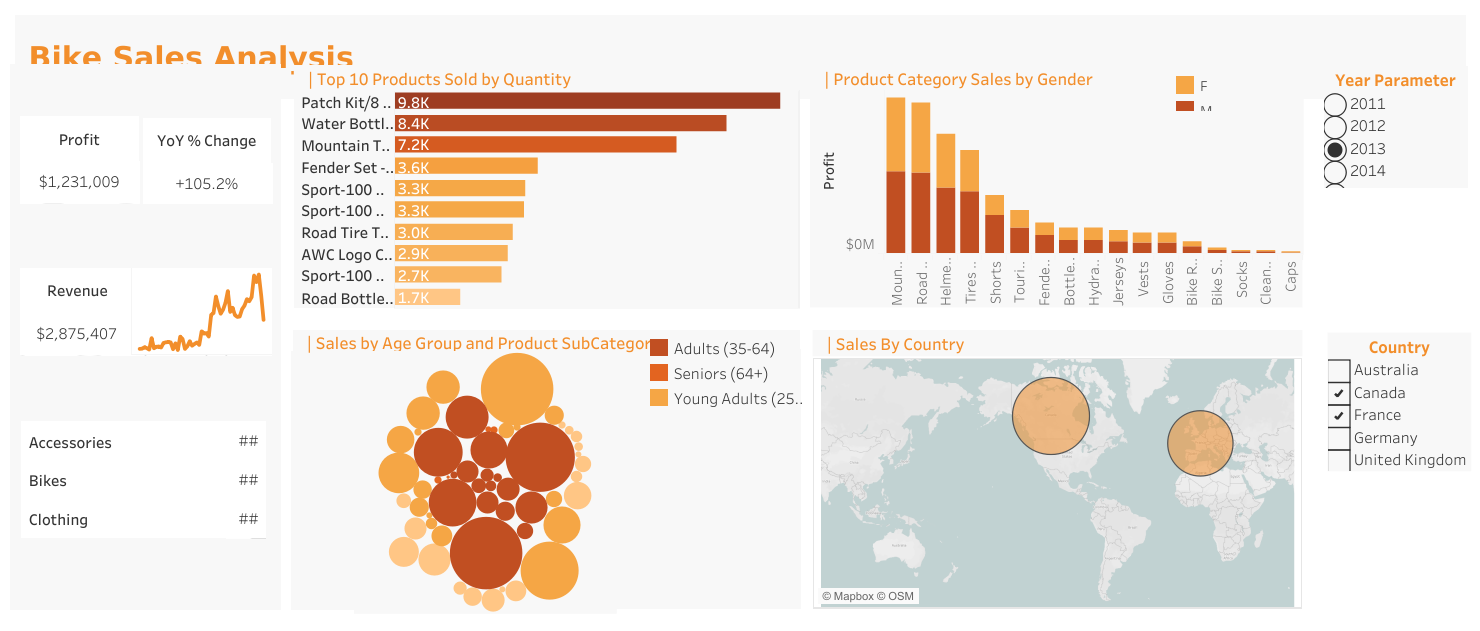

This screenshot's page, from the dashboard's own definition file:
{"tool":"tableau","page":{"name":"Sales Dashboard","canvas":[1000,1000],"units":"permille","ordinal":0},"visuals":[{"type":"title","box":[4.9,9.3,990.2,87.1]},{"type":"text","box":[197.9,103.4,341.2,41.8]},{"type":"text","box":[547.1,103.4,332.1,39.5]},{"type":"parameter","param":"[Parameters].[Parameter 1]","box":[893.8,104.5,97.2,192.8]},{"type":"legend","title":"SubCategory Bar Chart","param":"[federated.0gcj31602u4f0r16oxvj41pxij6p].[none:Customer_Gender:nk]","box":[791.1,113.8,85,61.6]},{"type":"worksheet","title":"Top 10 Products","mark":"Bar","rows":["Product"],"box":[198.5,141.7,341.2,347.3]},{"type":"worksheet","title":"SubCategory Bar Chart","mark":"Automatic","rows":["Profit"],"cols":["Sub_Category"],"box":[547.1,142.9,332.1,344.9]},{"type":"worksheet","title":"Profit Card","mark":"Automatic","cols":["Calculation_732960844400586754"],"box":[13.4,184.7,80.2,134.7]},{"type":"worksheet","title":"YoY % Change","mark":"Automatic","cols":["Calculation_732960844404006920"],"box":[95.9,185.8,87.4,133.6]},{"type":"worksheet","title":"Revenue Card","mark":"Automatic","cols":["Calculation_732960844407107593"],"box":[13.4,422.8,78.9,138.2]},{"type":"worksheet","title":"Revenue Line Chart","mark":"Automatic","rows":["Revenue"],"cols":["Date"],"box":[88.7,422.8,94.1,137.1]},{"type":"text","box":[197.3,521.5,343.1,36]},{"type":"text","box":[548.9,521.5,330.7,41.8]},{"type":"filter","title":"Age Group By Bubble Chart","param":"[federated.0gcj31602u4f0r16oxvj41pxij6p].[none:Country:nk]","box":[896.2,526.1,97.2,219.5]},{"type":"legend","title":"Age Group By Bubble Chart","param":"[federated.0gcj31602u4f0r16oxvj41pxij6p].[none:Age_Group:nk]","box":[436.6,529.6,106.9,123.1]},{"type":"worksheet","title":"Age Group By Bubble Chart","mark":"Circle","box":[239.2,555.2,355.8,412.3]},{"type":"worksheet","title":"Map","mark":"Automatic","box":[548.9,564.5,330.3,397.2]},{"type":"worksheet","title":"Cost Cards","mark":"Automatic","rows":["Product_Category"],"box":[14.6,665.5,165.2,183.5]}]}

Visuals, with their boxes on the dashboard's canvas, which has no fixed pixel size, in thousandths of its width and height (x1, y1, x2, y2). These are canvas units, not pixel positions in the 1480x631 screenshot, which may show the page scaled, cropped or inside an application window:
title: <box>5,9,995,96</box>
text: <box>198,103,539,145</box>
text: <box>547,103,879,143</box>
parameter: <box>894,104,991,297</box>
"SubCategory Bar Chart" legend: <box>791,114,876,175</box>
"Top 10 Products" worksheet (Bar marks): <box>198,142,540,489</box>
"SubCategory Bar Chart" worksheet: <box>547,143,879,488</box>
"Profit Card" worksheet: <box>13,185,94,319</box>
"YoY % Change" worksheet: <box>96,186,183,319</box>
"Revenue Card" worksheet: <box>13,423,92,561</box>
"Revenue Line Chart" worksheet: <box>89,423,183,560</box>
text: <box>197,522,540,558</box>
text: <box>549,522,880,563</box>
"Age Group By Bubble Chart" filter: <box>896,526,993,746</box>
"Age Group By Bubble Chart" legend: <box>437,530,544,653</box>
"Age Group By Bubble Chart" worksheet (Circle marks): <box>239,555,595,968</box>
"Map" worksheet: <box>549,564,879,962</box>
"Cost Cards" worksheet: <box>15,666,180,849</box>
